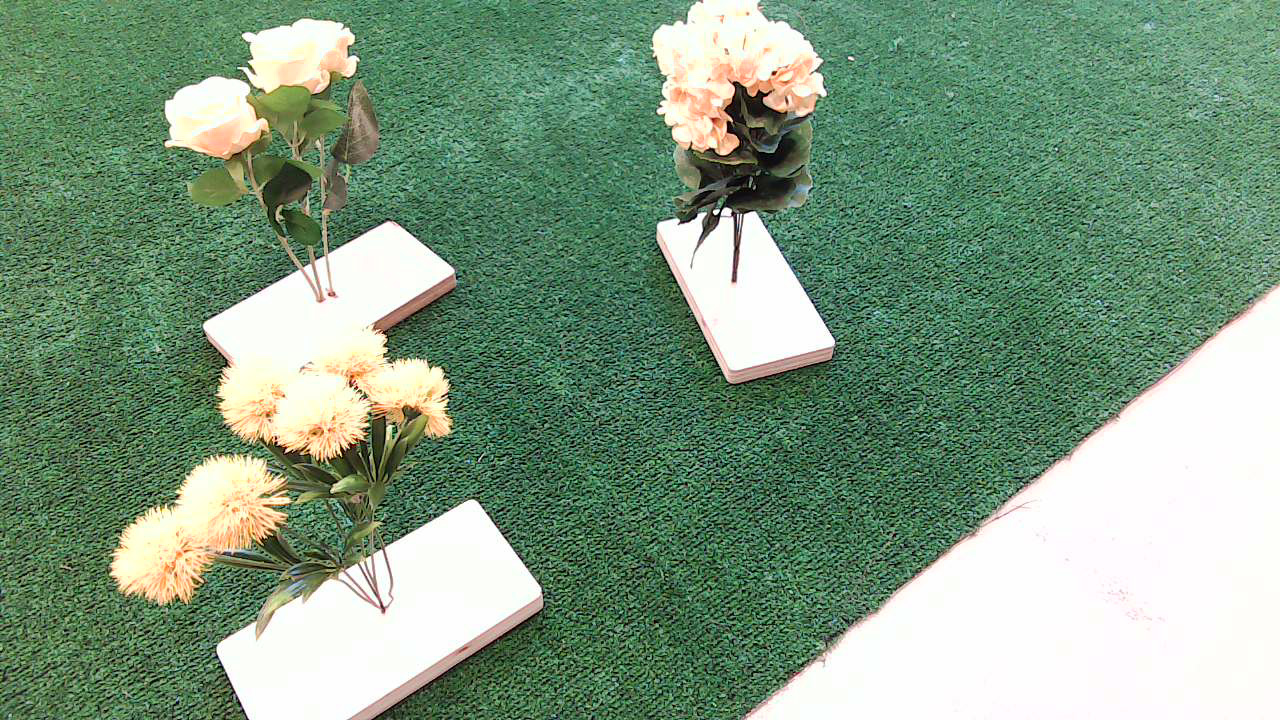dandelion: (103, 325, 495, 651)
geranium: (628, 3, 843, 305)
rose: (108, 21, 420, 288)
